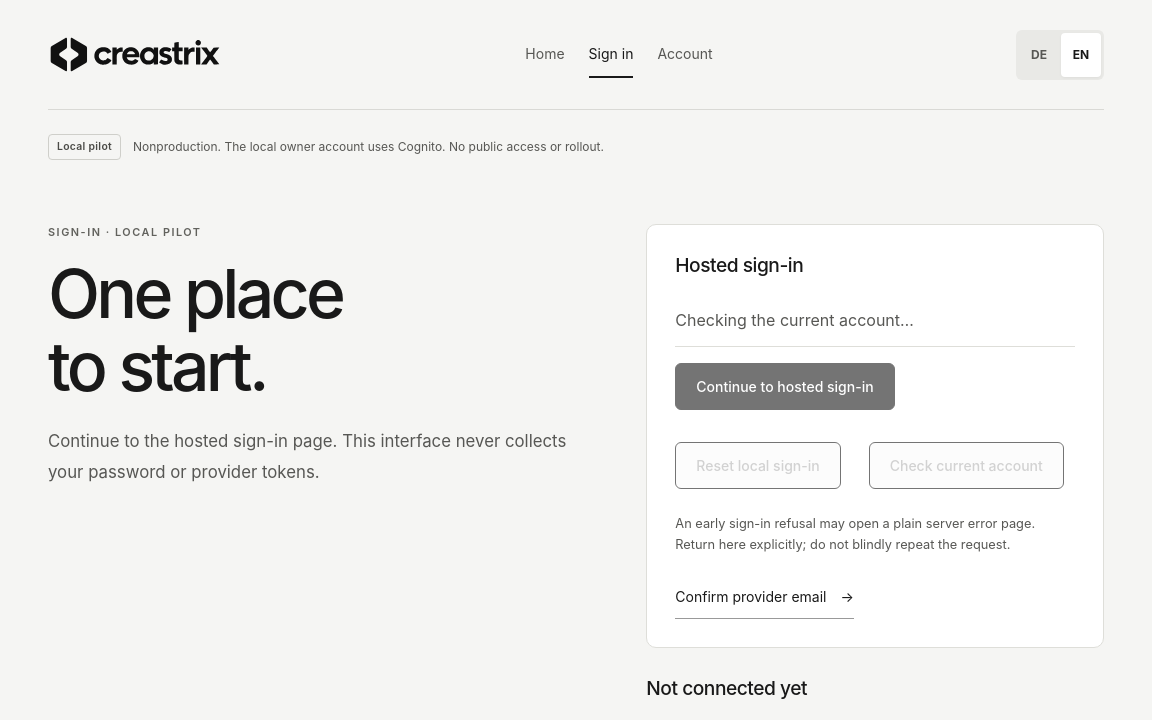
it: public routes, language and keyboard support › changes DE/EN labels and title; remount restores language but never identity
Click the button with aria-label "Deutsch". click: (1039, 54)
box: [1019,32,1059,76]
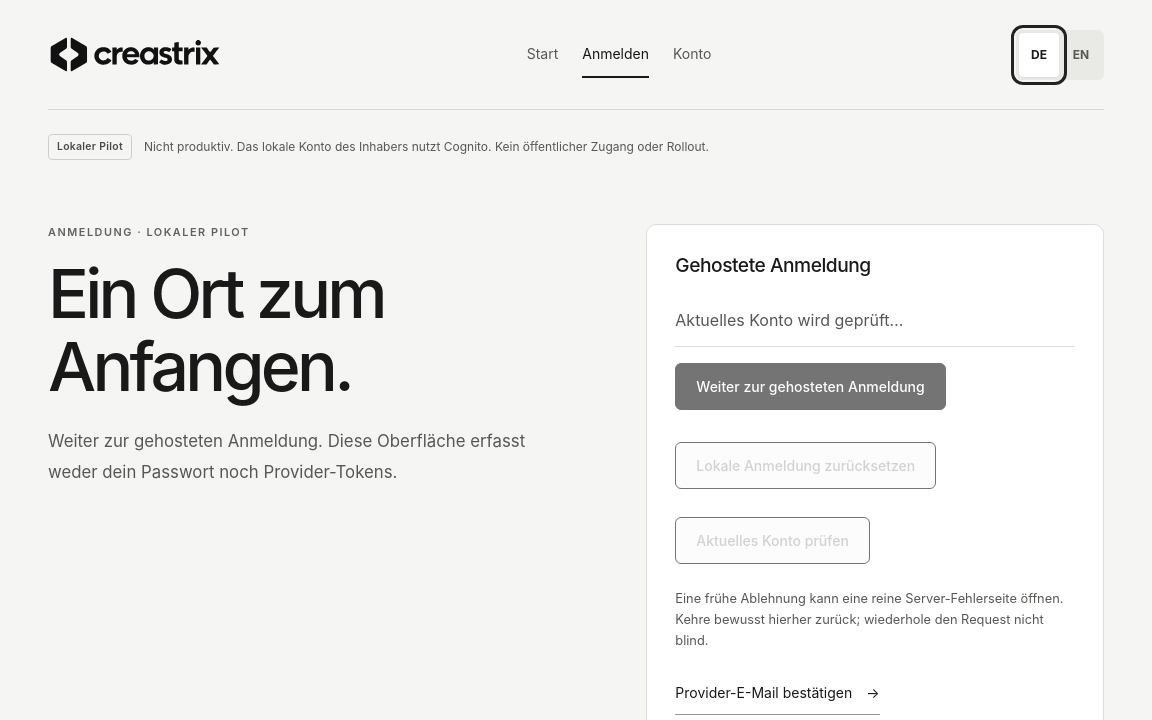
Expected: the heading "Ein Ort zum Anfangen." is shown, [48,252,384,407]
Expected: the element named "Sprache" is shown, [1016,30,1104,80]
